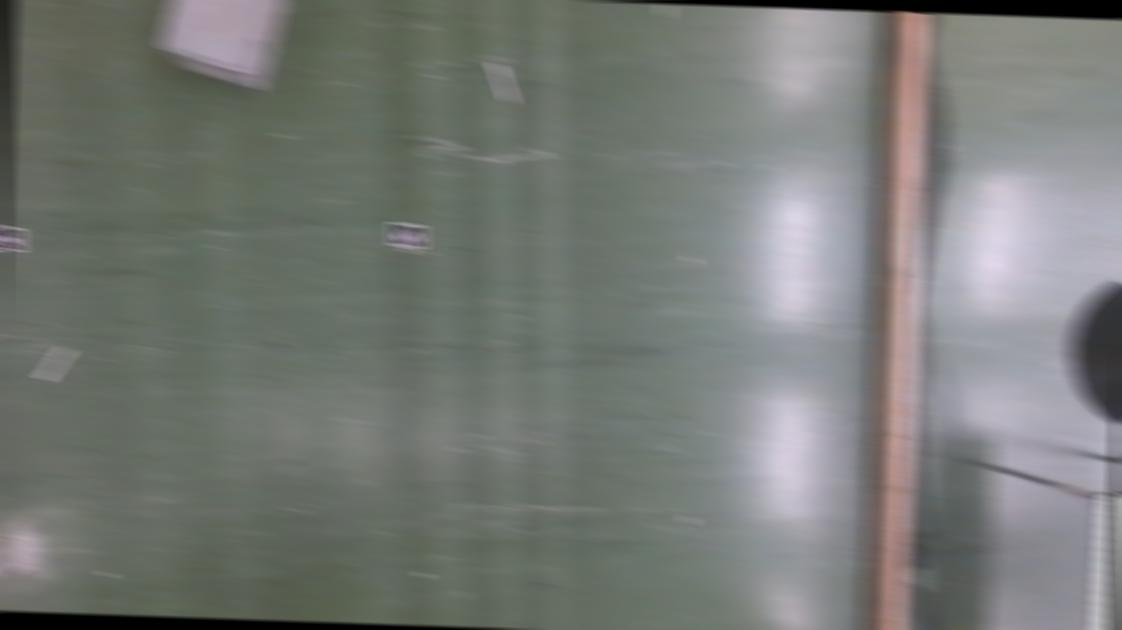probes: (38, 346, 72, 384), (490, 63, 518, 104)
rako: (154, 0, 290, 92)
